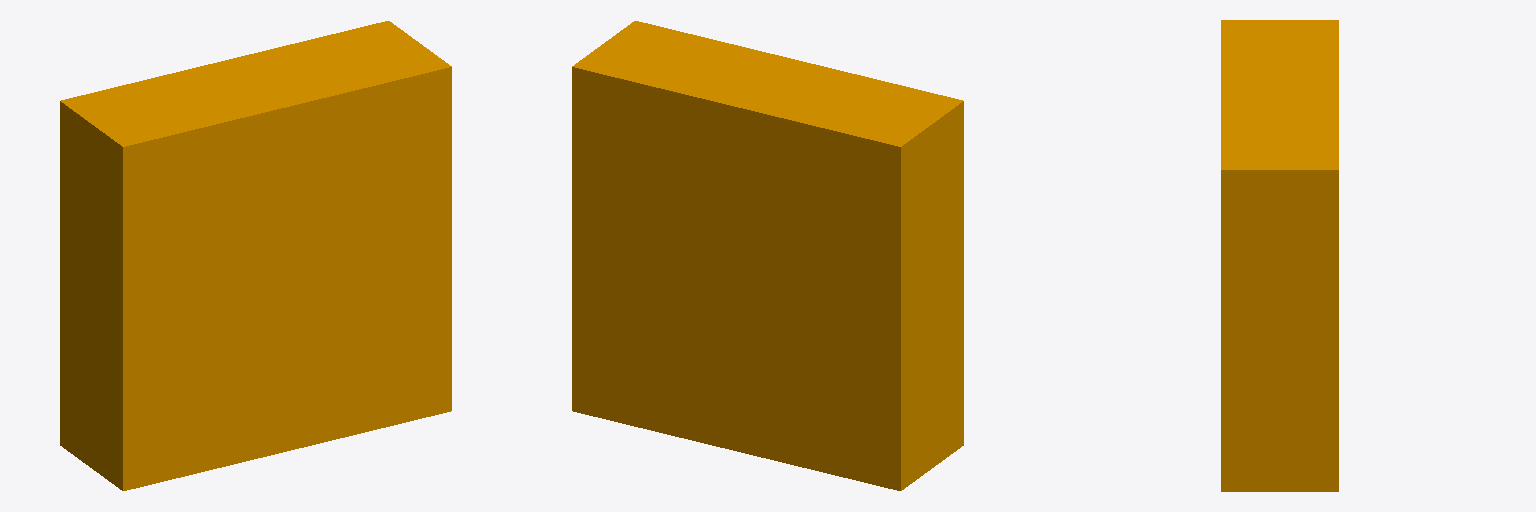
URDF robot description (starting_ground):
<?xml version="1.0"?>
<robot name="starting_ground">
  <link name="starting_ground">
    <inertial>
      <mass value="1.0" />
      <inertia ixx="1.0" ixy="0.0" ixz="0.0" iyy="1.0" iyz="0.0" izz="1.0" />
    </inertial>
    <visual>
      <geometry>
        <box size="3 1 3"/>
      </geometry>
    </visual>
    <collision>
      <geometry>
        <box size="3 1 3"/>
      </geometry>
    </collision>
  </link>
</robot>

--- Render facts (derived) ---
Views: 3 orthographic renders of the robot side by side, from view 1: azimuth 30°, elevation 25°; view 2: azimuth 150°, elevation 25°; view 3: azimuth 270°, elevation 25°.
Robot: starting_ground — 1 links, 0 joints (none); root link starting_ground; default pose: all joints at 0.
Links seen in each view (by area): view 1: starting_ground; view 2: starting_ground; view 3: starting_ground.
Link boxes in pixels (x1,y1,x2,y2): starting_ground: (60,21,451,490); starting_ground: (572,21,963,490); starting_ground: (1221,20,1338,491).
Size in the robot's own frame: 3 by 1 by 3 metres.
Geometry: primitives only (box / cylinder / sphere), no mesh files.